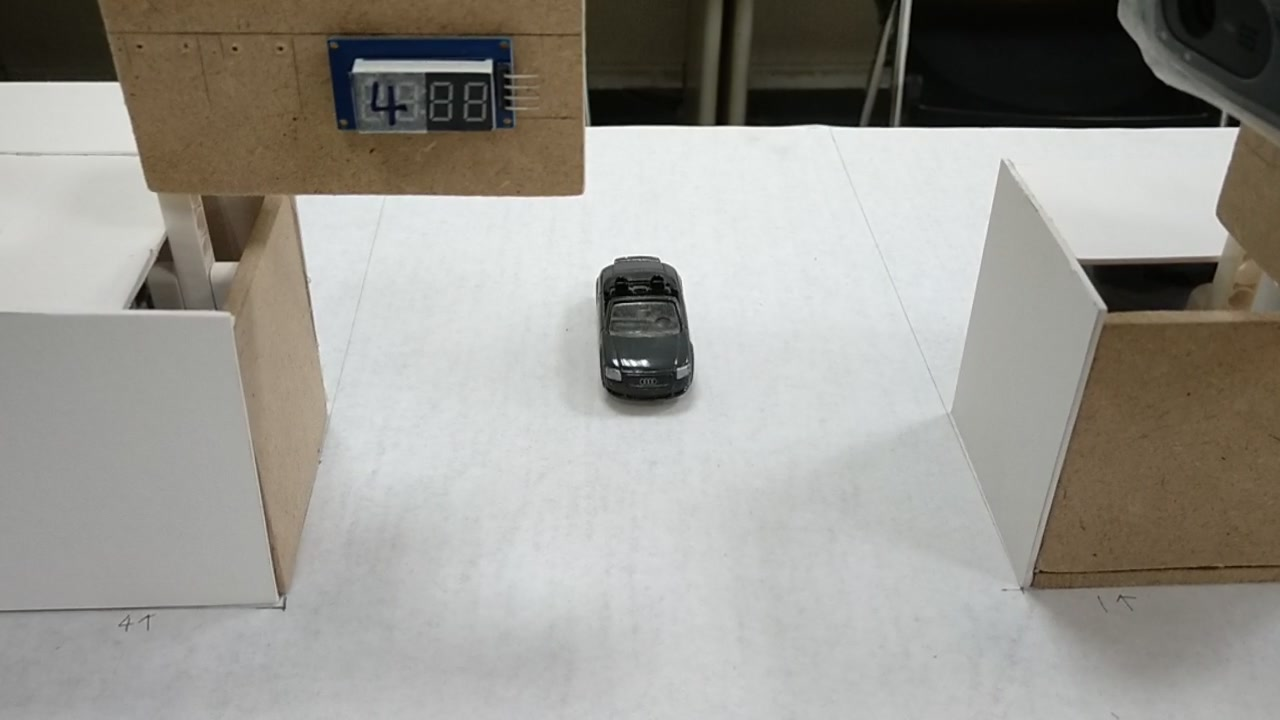car: (596, 257, 699, 397)
